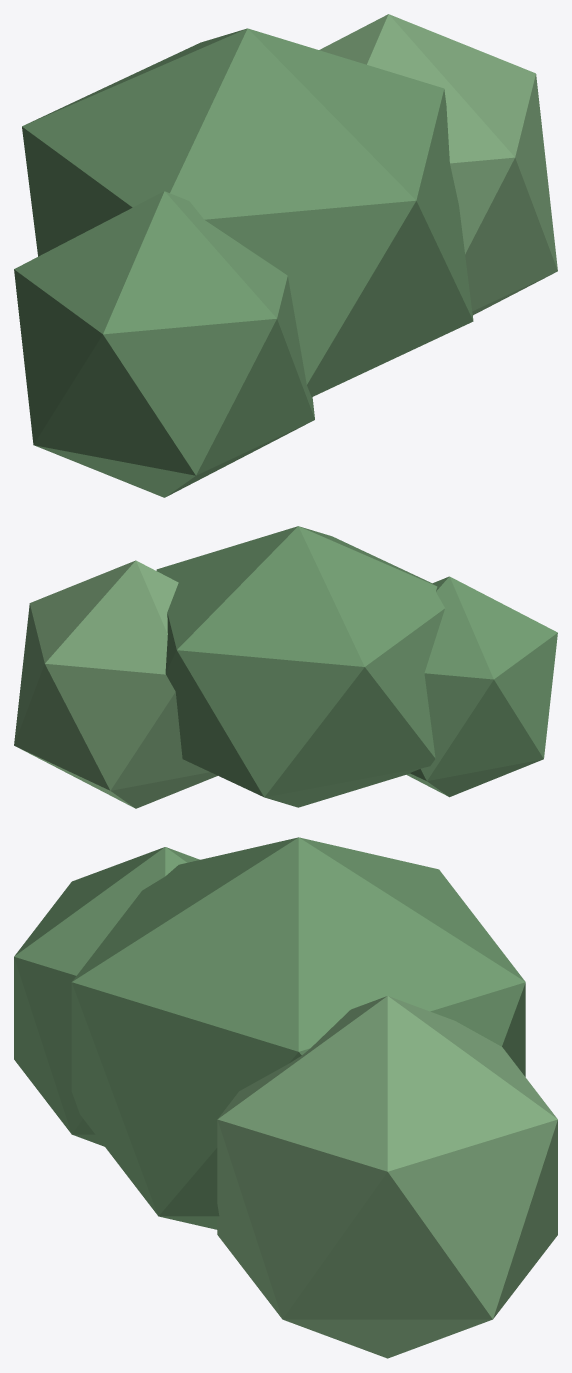
Rendered from Cali.glb.
The picture shows the model from 3 angles, top to bottom: view 1: azimuth 30°, elevation 25°; view 2: azimuth 150°, elevation 25°; view 3: azimuth 270°, elevation 25°; orthographic projection. The views are drawn at different scales.
Parts seen in each view (by area): view 1: Cali; view 2: Cali; view 3: Cali.
Boxes of the visible parts, <box> form: Cali: <box>14,14,557,497</box>; Cali: <box>14,526,557,808</box>; Cali: <box>14,837,557,1358</box>.
Bounding box in the file's own units: 1.66 × 1.06 × 1.22.
